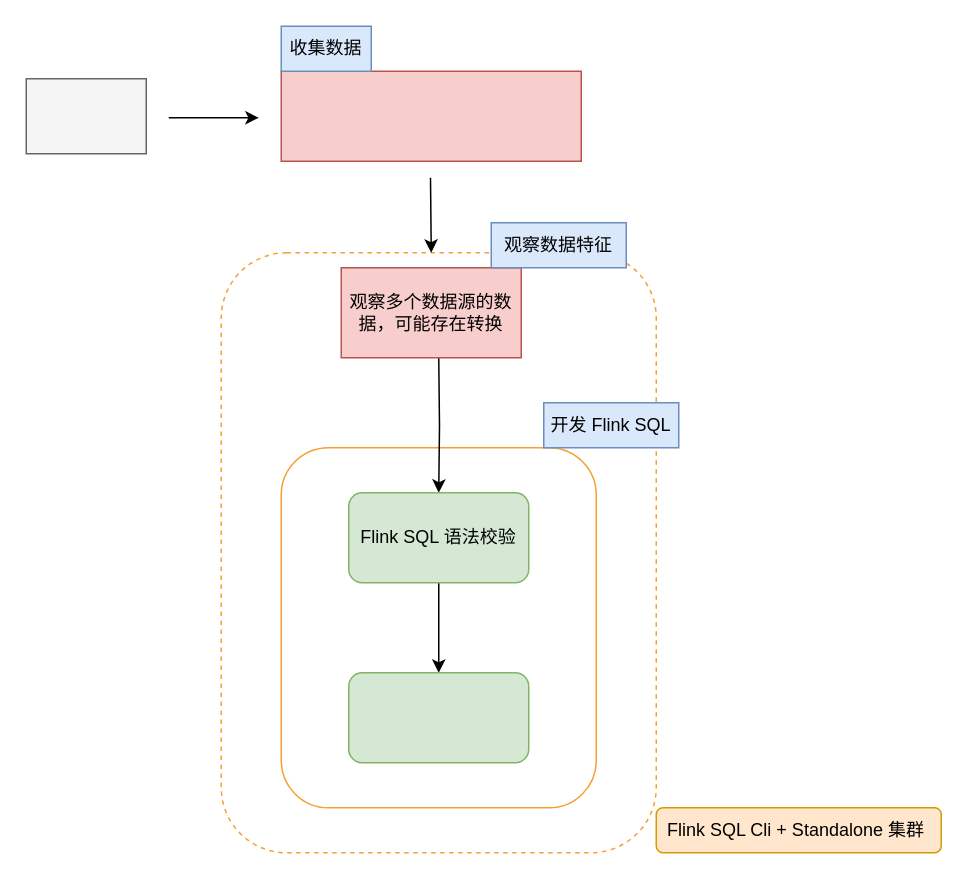
Image size: 968x879. Some labels were removed from this diagram. Each missing label, with the centre of its shape:
Flink SQL 执行: point (438, 717)
实时计算需求: point (85, 115)
根据需求，校对多个数据源的表结构以及字段含义: point (430, 115)
